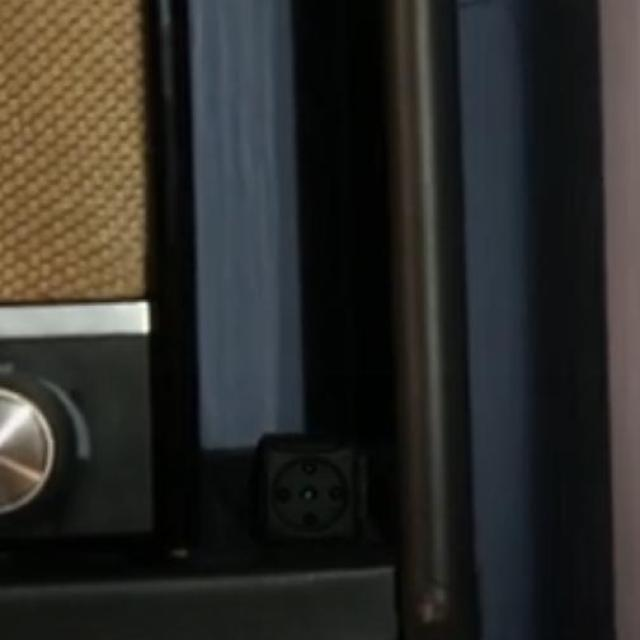hidden camera: (276, 454, 349, 527)
